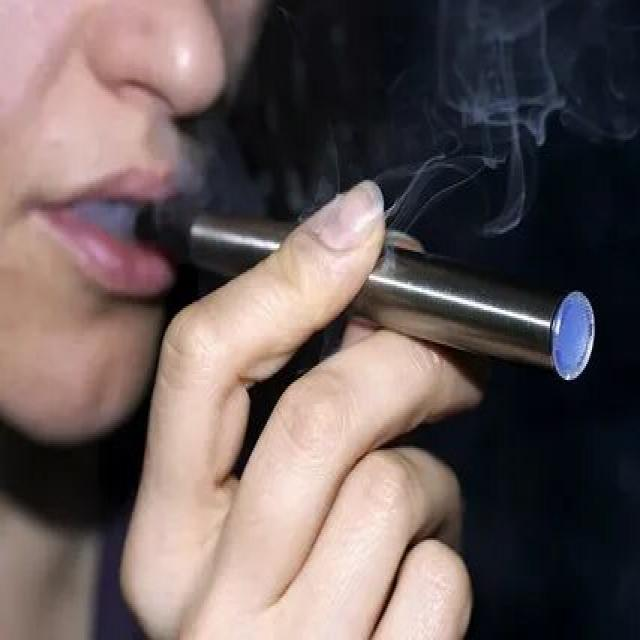cigarette: (133, 174, 601, 394)
